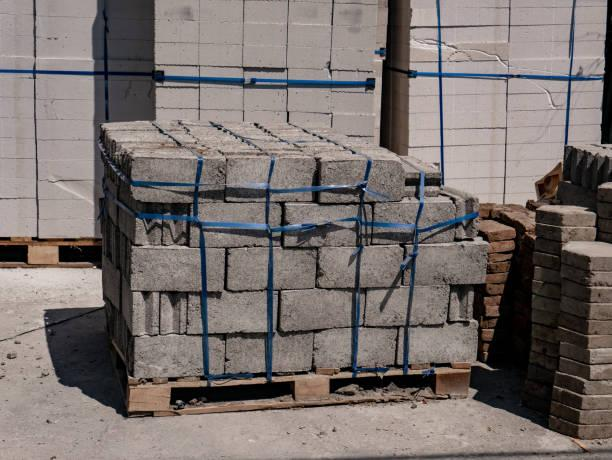Bricks: (132, 156, 227, 204), (224, 156, 318, 202), (132, 248, 224, 295), (133, 333, 224, 376), (194, 204, 284, 247), (284, 202, 372, 244), (323, 160, 403, 202), (319, 247, 404, 286), (362, 287, 449, 325), (225, 335, 312, 373), (191, 294, 276, 332), (408, 246, 488, 286), (234, 250, 314, 289), (281, 289, 360, 327), (319, 329, 396, 367), (375, 204, 453, 241), (399, 326, 472, 360), (131, 201, 162, 247), (552, 419, 612, 440), (163, 206, 190, 250), (555, 404, 612, 424), (538, 209, 595, 227), (566, 247, 612, 269), (161, 294, 187, 331), (559, 376, 612, 394), (562, 281, 612, 300), (554, 391, 612, 407), (130, 294, 154, 332), (538, 224, 594, 240), (565, 360, 612, 378), (564, 331, 612, 348), (564, 315, 611, 332), (566, 345, 612, 360), (566, 269, 612, 283), (459, 198, 474, 237), (456, 287, 473, 321), (563, 303, 612, 314), (534, 279, 558, 297), (531, 321, 557, 337), (535, 239, 563, 253), (536, 266, 560, 281), (534, 253, 558, 267), (530, 311, 557, 323), (533, 342, 556, 354), (535, 297, 558, 307), (490, 264, 515, 272), (489, 274, 514, 282), (491, 241, 513, 250), (489, 254, 514, 261), (489, 232, 515, 238), (486, 308, 501, 317), (489, 285, 501, 292), (486, 298, 500, 303)
